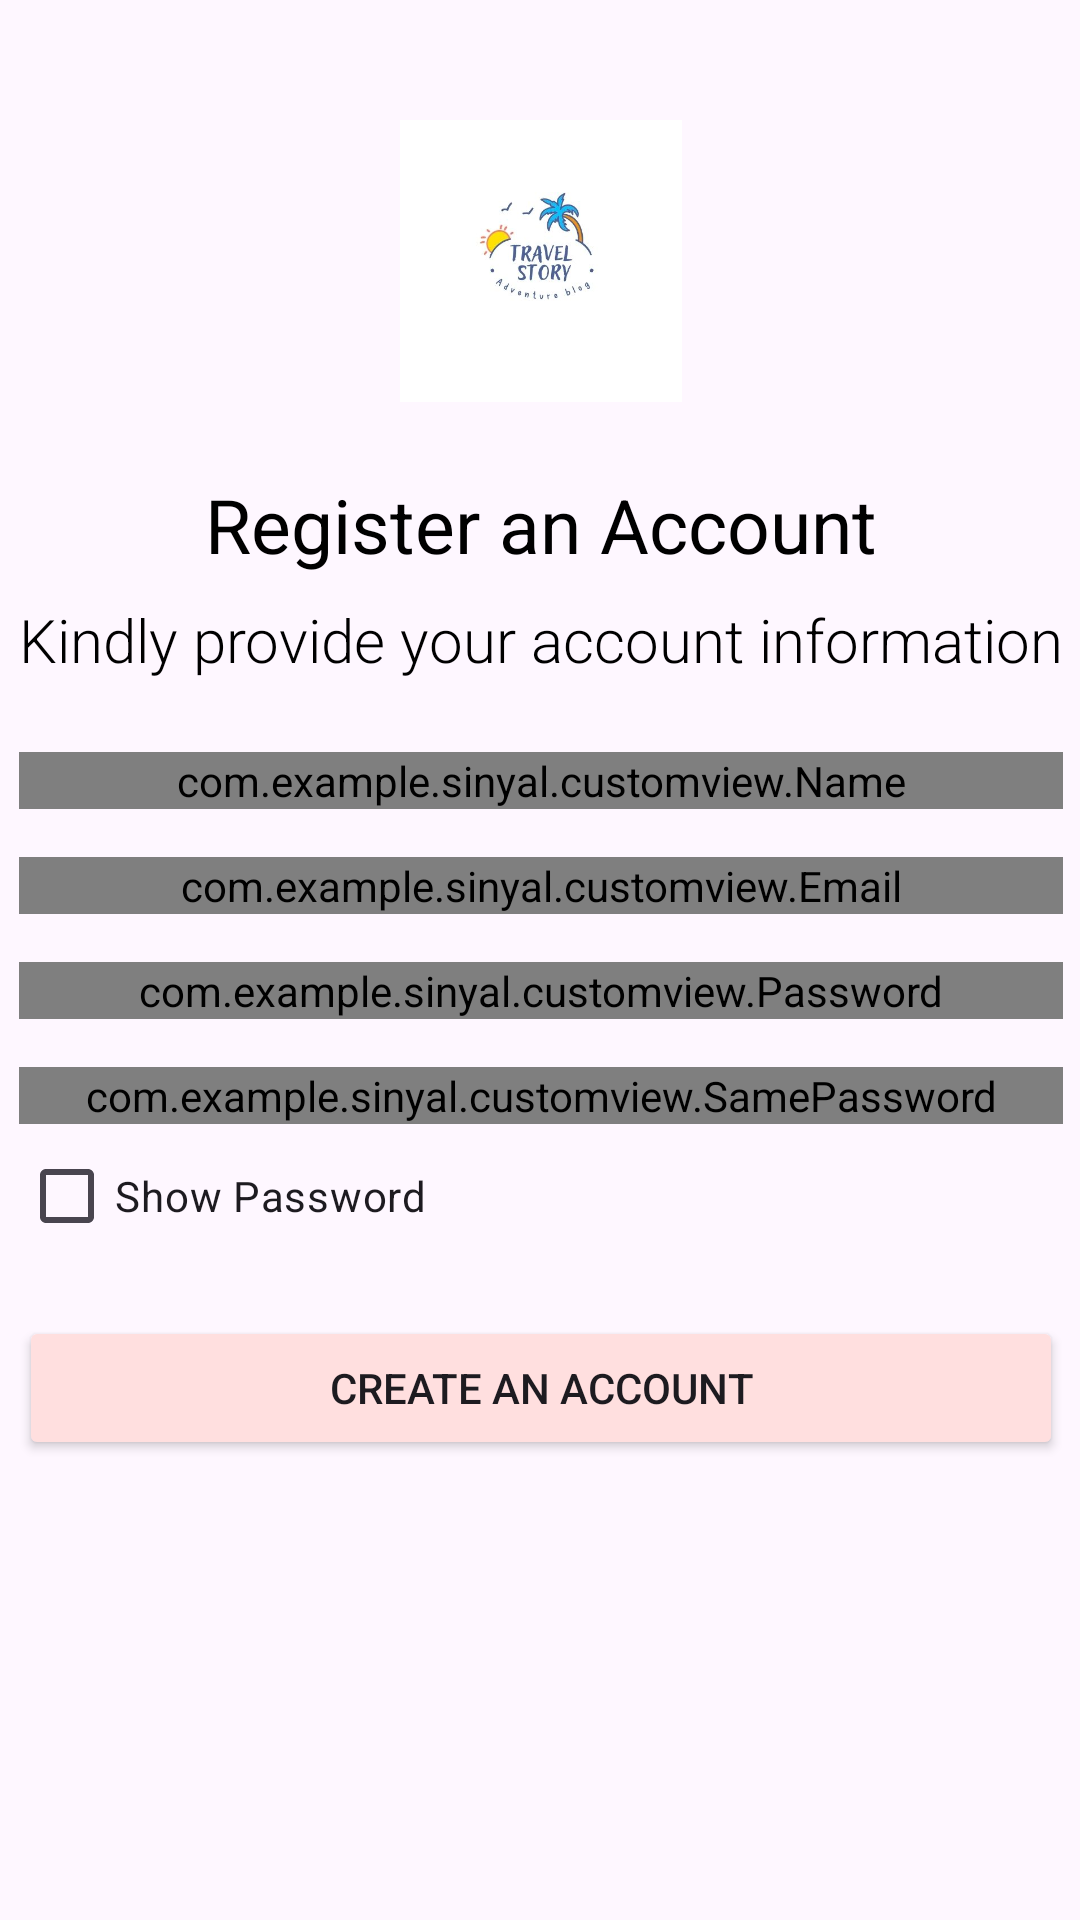

Locate icon controls on the screen. Image size 1080x1920, boxes as (x1, y1, x2, y2).
Just a decorative icon for registration: (480, 193, 594, 299)
